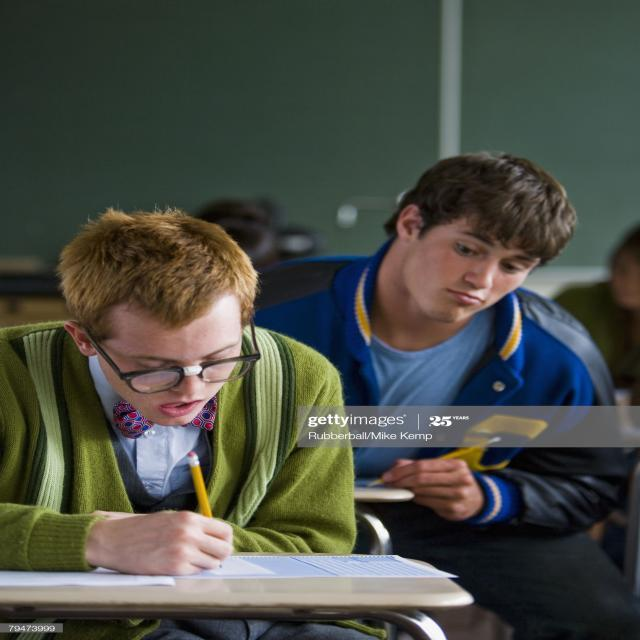cheating: (329, 136, 617, 409)
good: (0, 193, 374, 604)
